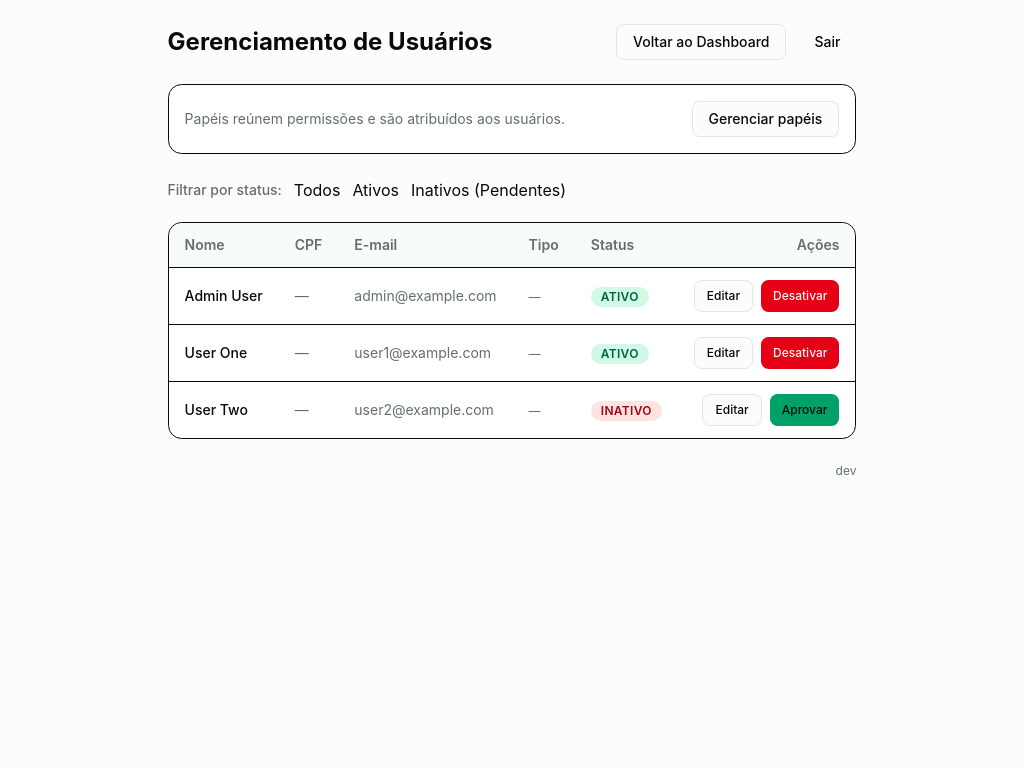
Test case: AdminUserDashboard › prevents current user from deactivating their own account
Expected: the text "Admin User" is shown, [169,268,279,324]
What coordinates should you click on to do the following:
click the button "Desativar" in the row of "Admin User"
I would click on:
 (800, 296)
Its box is [761,280,839,312].
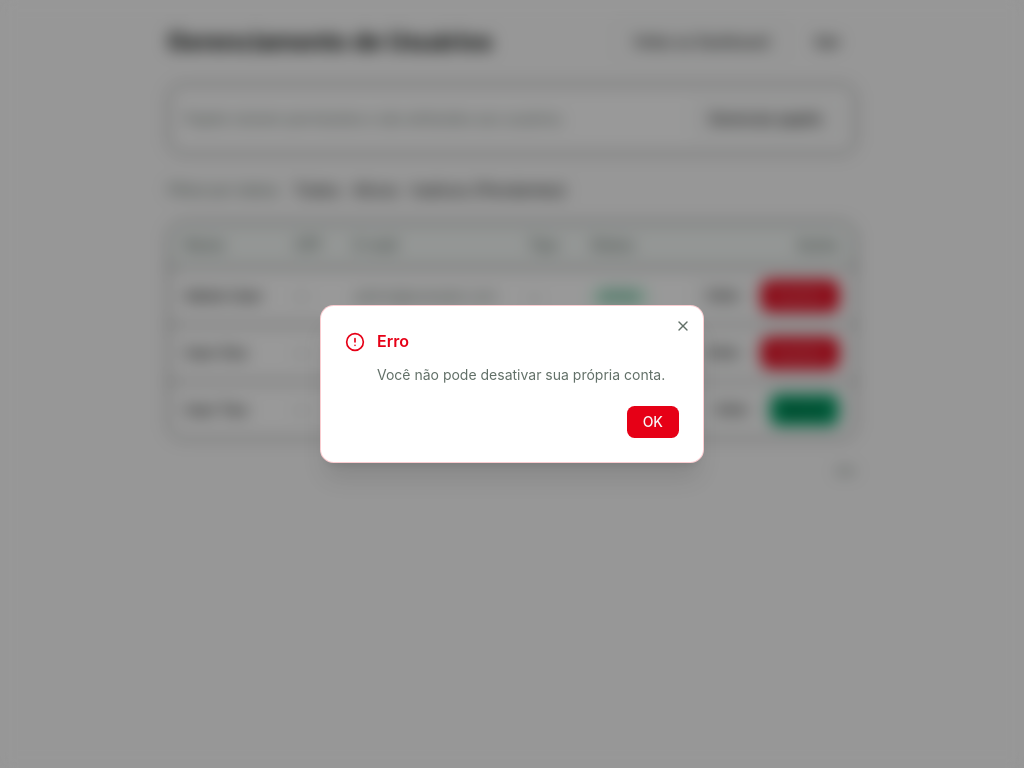
Result: the text "Você não pode desativar sua própria conta." is shown at [345,364,679,386]
